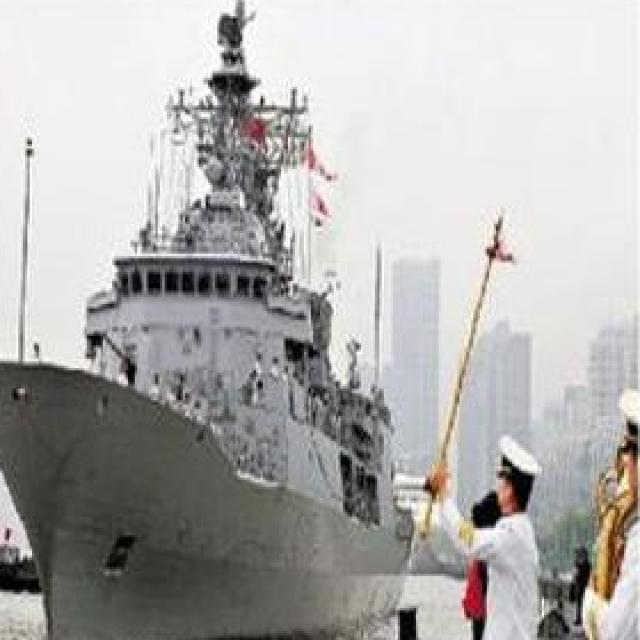navalvessels: (0, 0, 423, 640)
